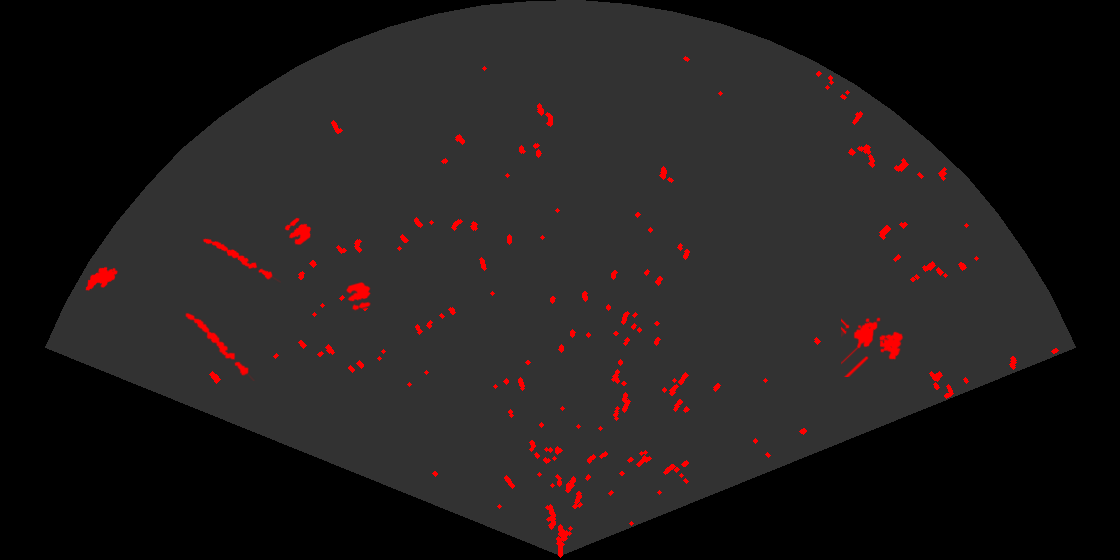AUV: (84, 265, 119, 292)
ball: (283, 216, 313, 246), (344, 280, 372, 312)
cage: (841, 316, 905, 377)
chain: (184, 311, 256, 381), (201, 237, 281, 284)
